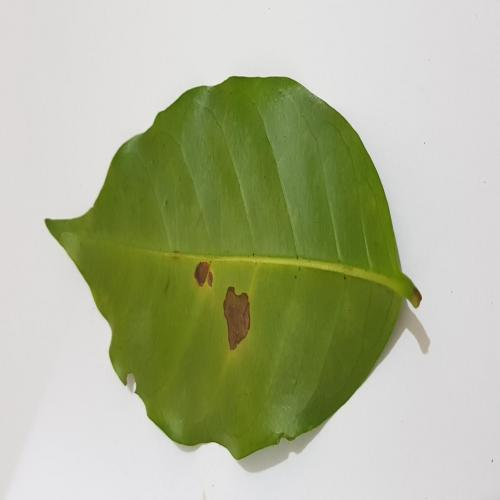leaf: (194, 262, 213, 286)
